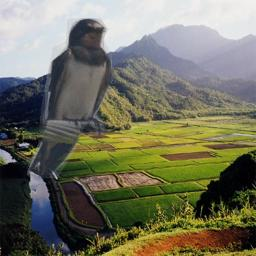Swallow: (27, 18, 112, 178)
